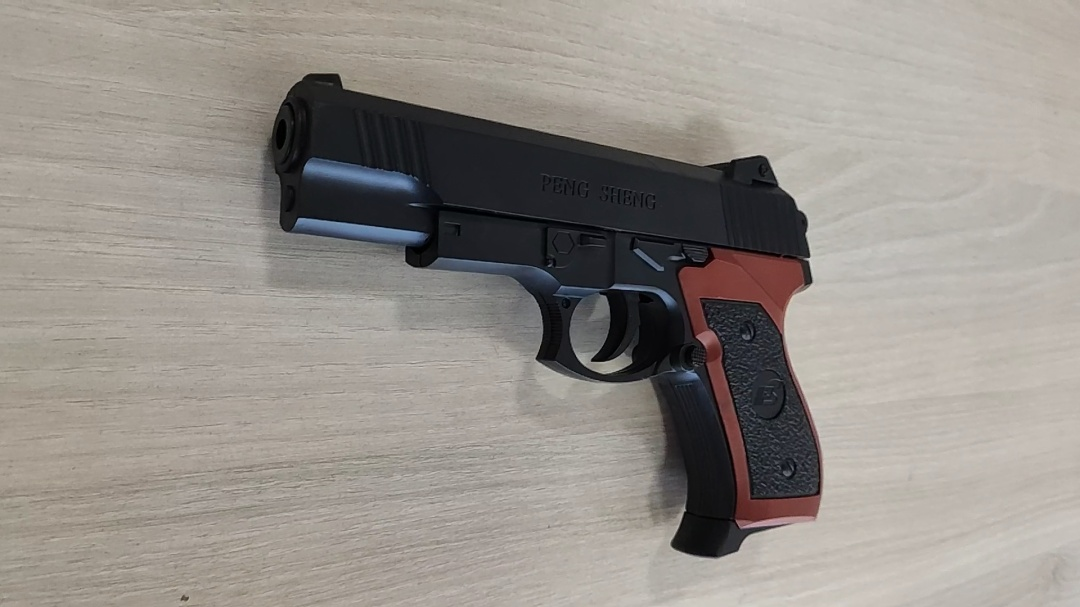gunw: (265, 68, 828, 562)
